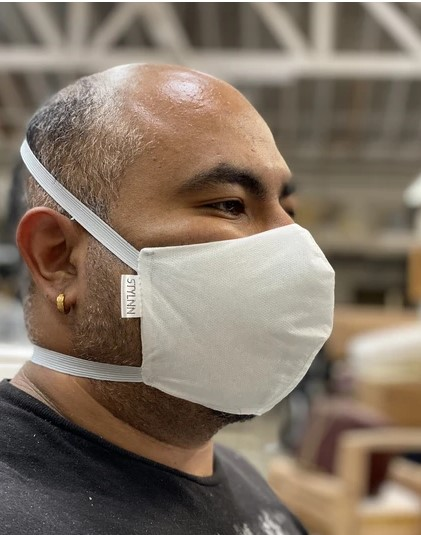face_with_mask: (14, 59, 342, 432)
